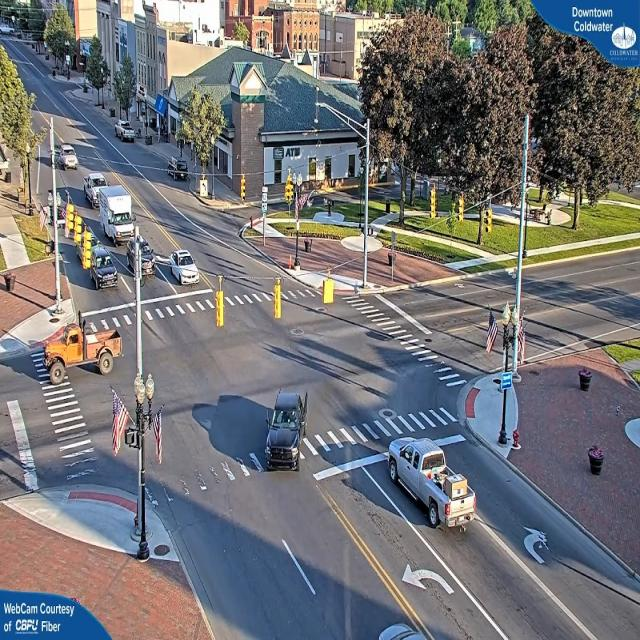car: (385, 440, 476, 537), (266, 393, 307, 473), (126, 232, 156, 278), (165, 251, 200, 287), (88, 253, 116, 287), (586, 442, 606, 476), (55, 144, 78, 170), (166, 158, 190, 180), (117, 123, 136, 143)
truck: (44, 318, 124, 382), (94, 181, 137, 244)
